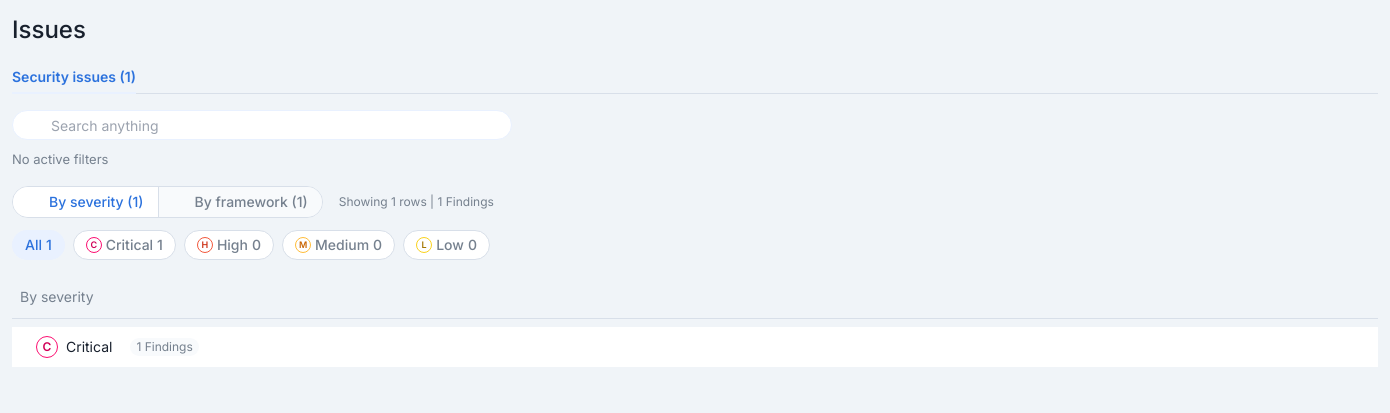
it: IssuesTab — states › shows the filtered-empty copy preserving the original wording
This screenshot has width=1390, height=413.
Click the button named "Low0" at (446, 244), box [403,230,490,260]
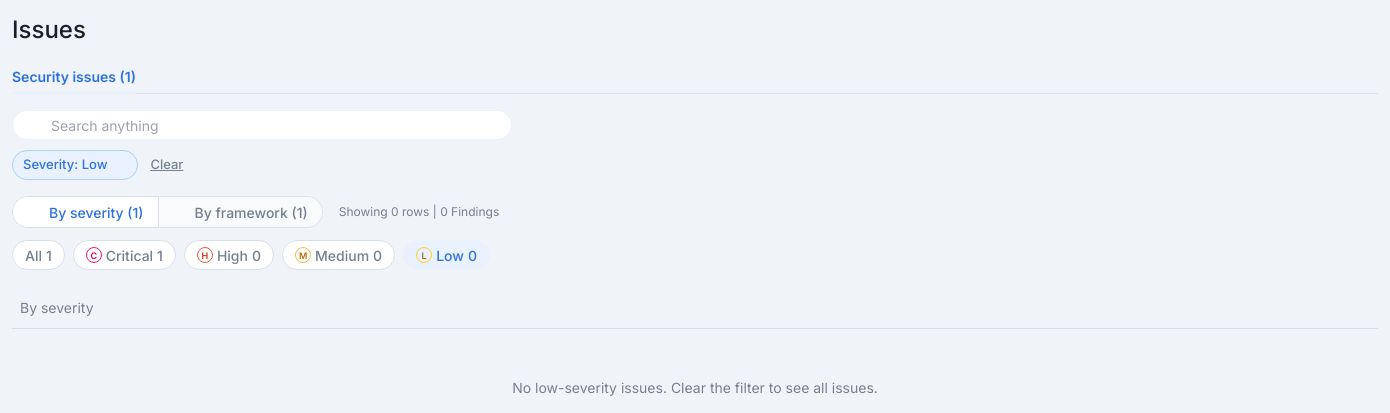
Result: the text "No low-severity issues. Clear the filter to see all issues." is shown at [512,379,878,396]
